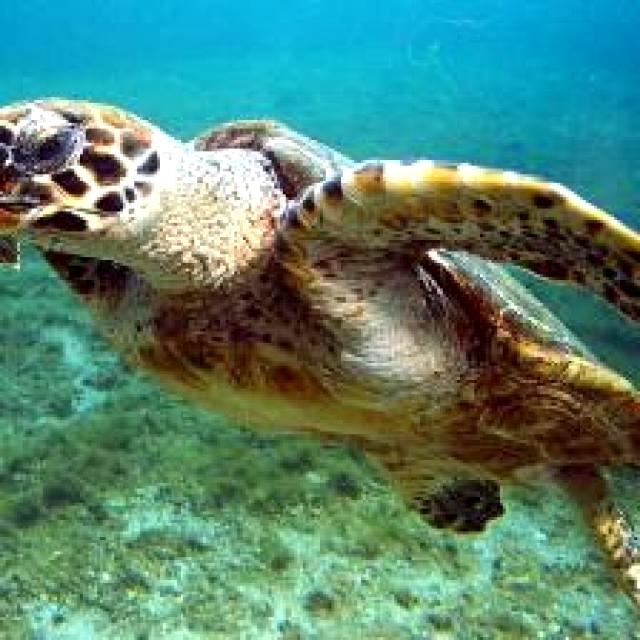Sea turtle: (0, 60, 640, 603)
